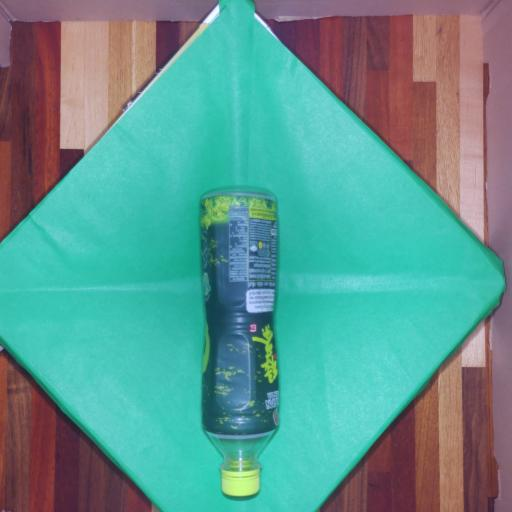bottle: (201, 190, 278, 496)
